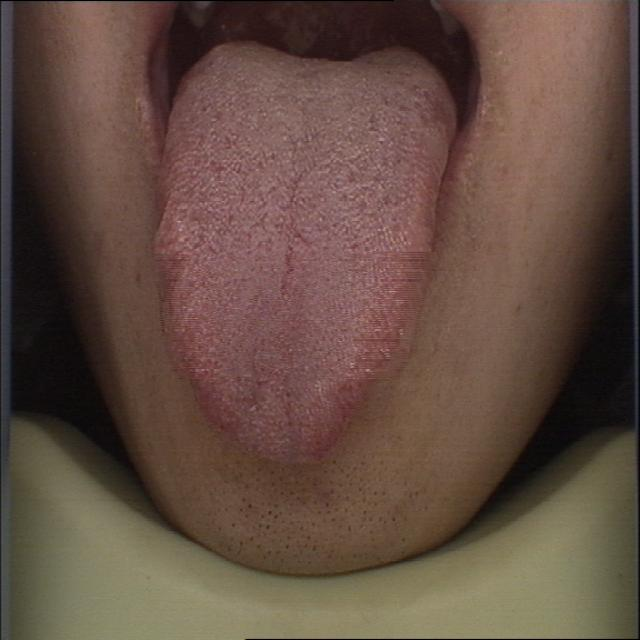baitaishe: (152, 29, 456, 475)
liewenshe: (274, 241, 300, 296)
shoushe: (152, 29, 456, 475)
